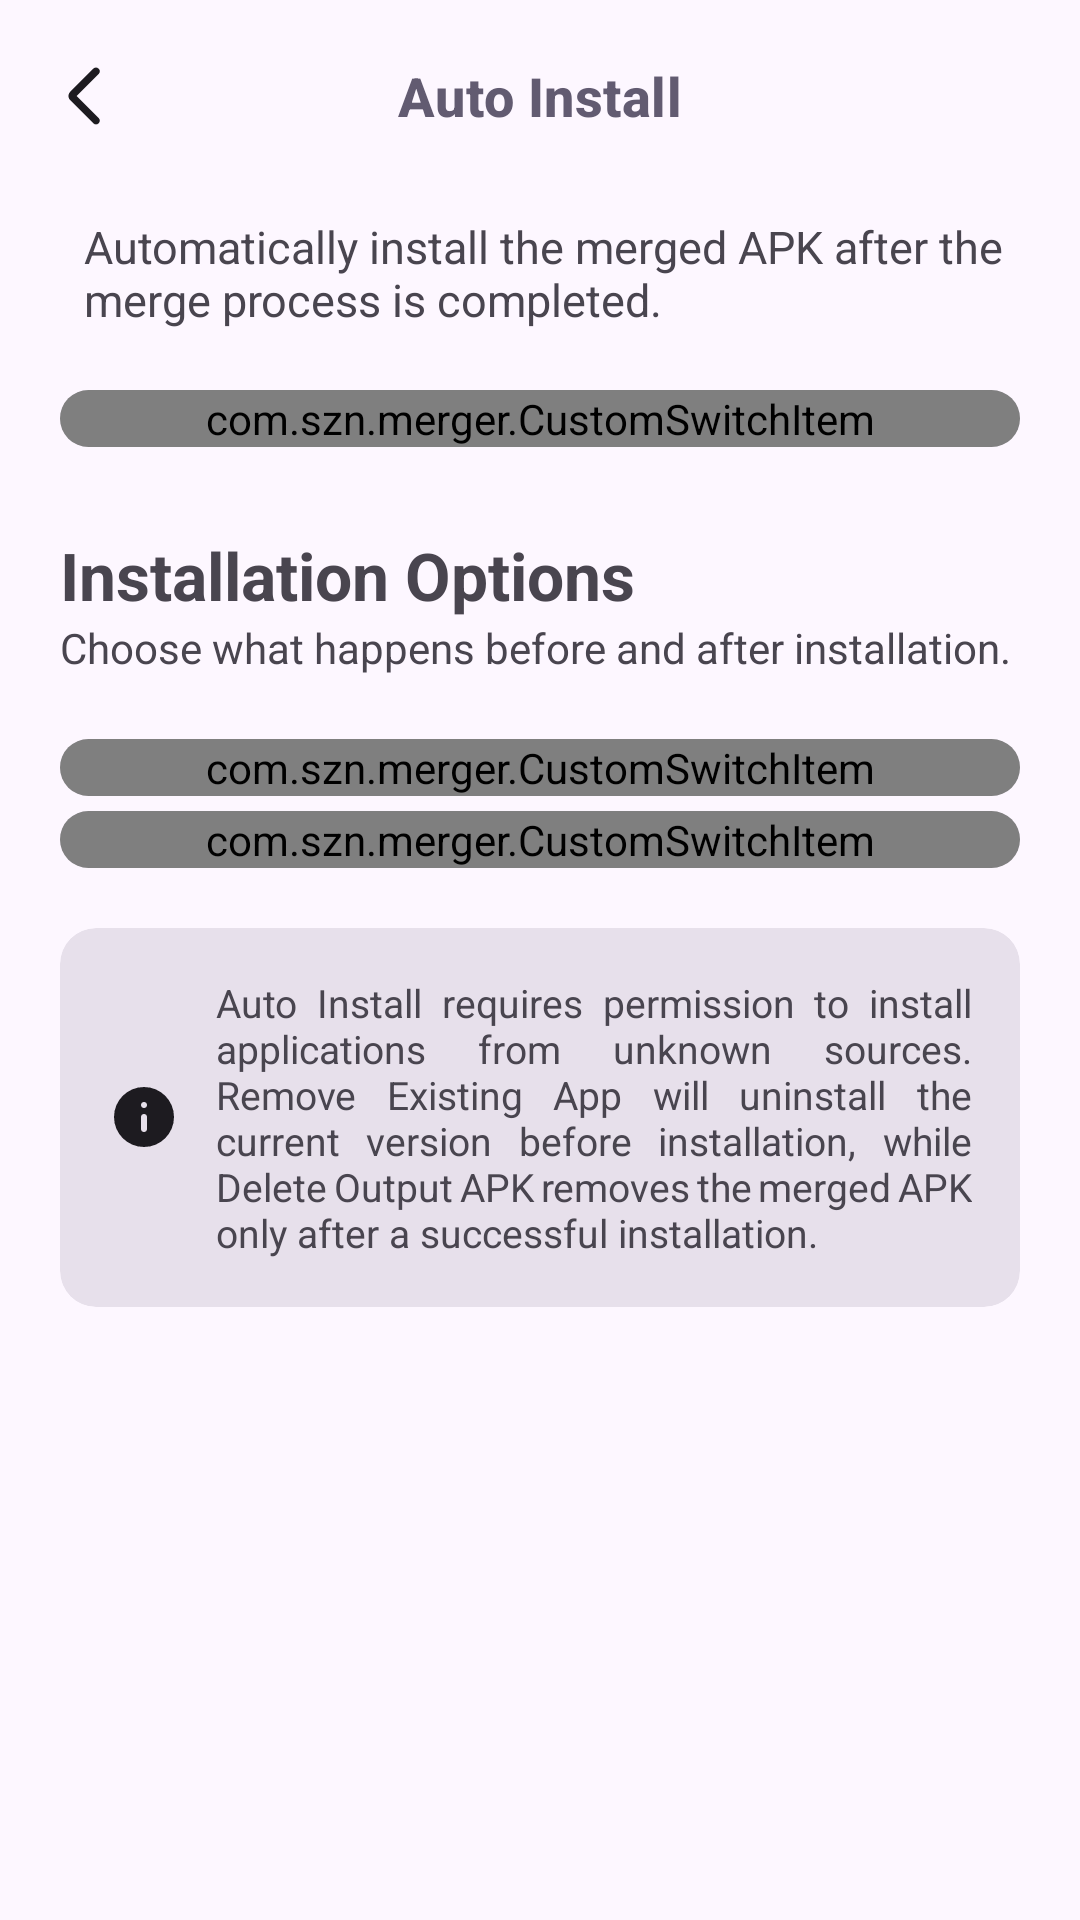

Icon click points for this 1080 x 1920 phone screenshot, format (x=x, y=y):
info: (x=144, y=1117)
